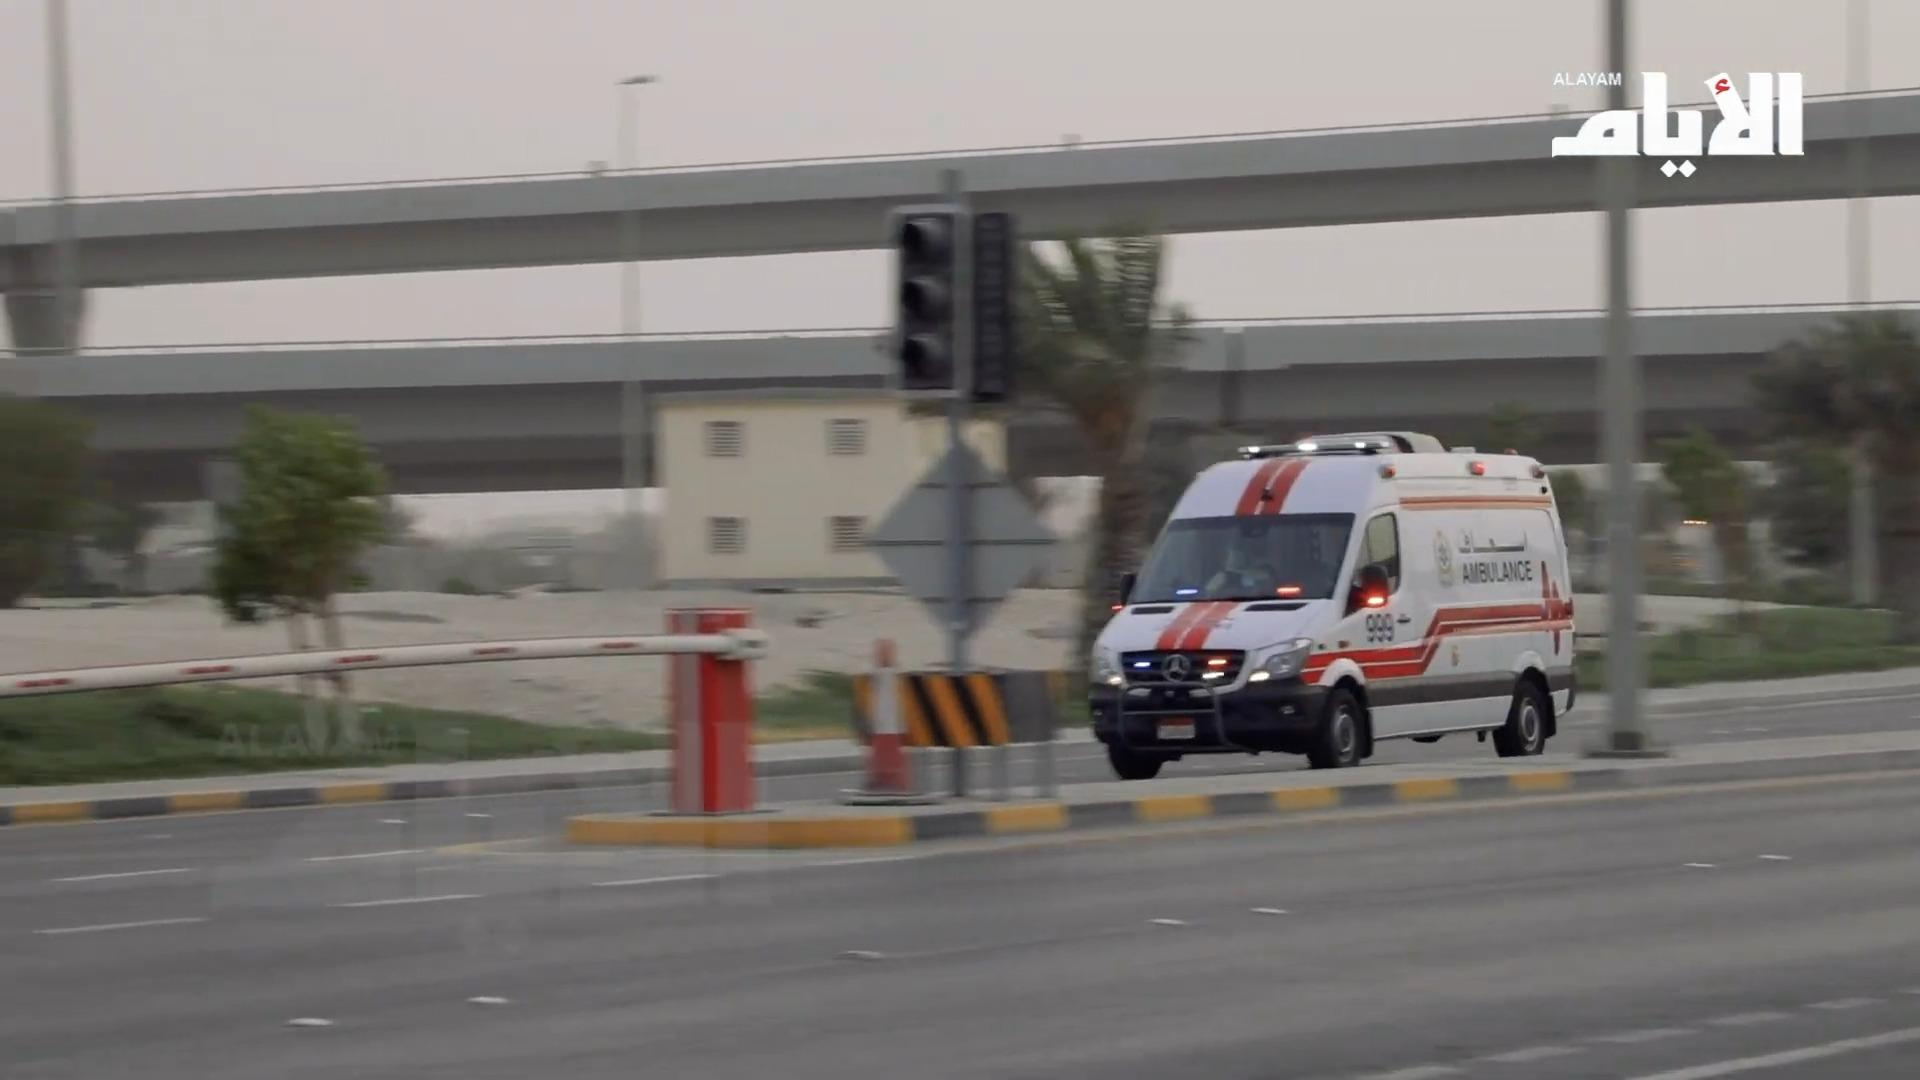ambulance_on: (1091, 430, 1575, 779)
